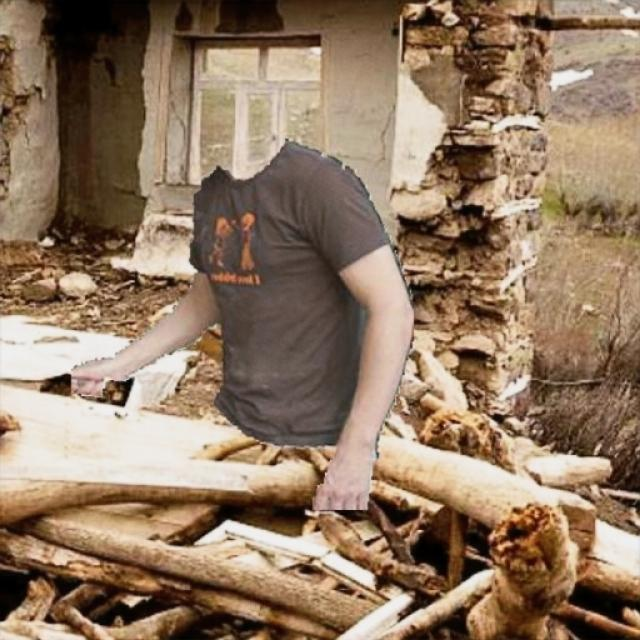Person in Rubble: (71, 139, 412, 509)
